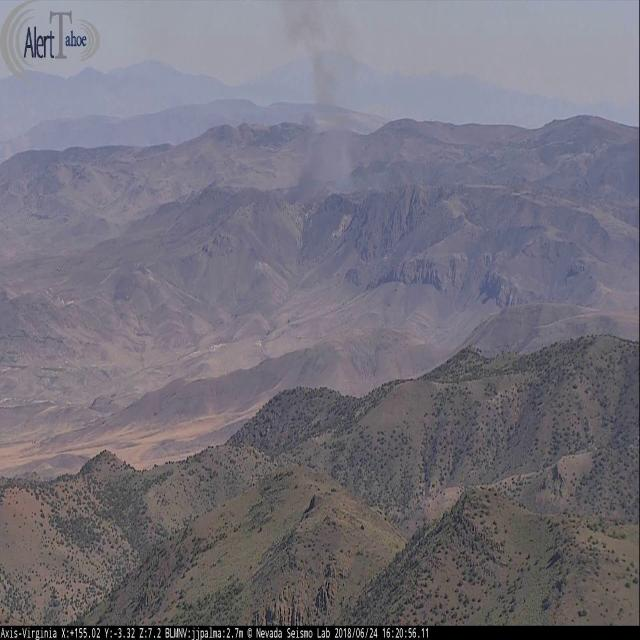smoke: (277, 5, 374, 196)
